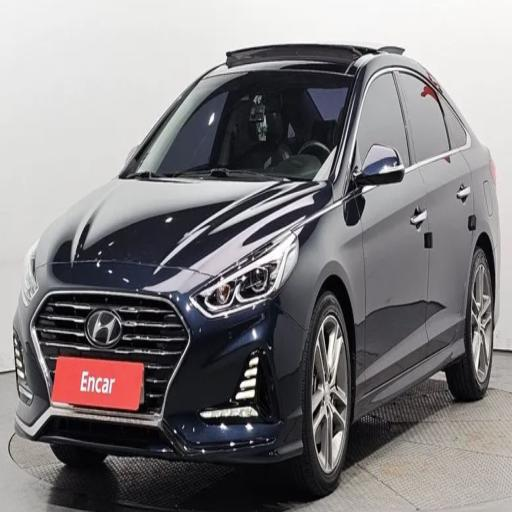normal: (15, 4, 506, 480)
